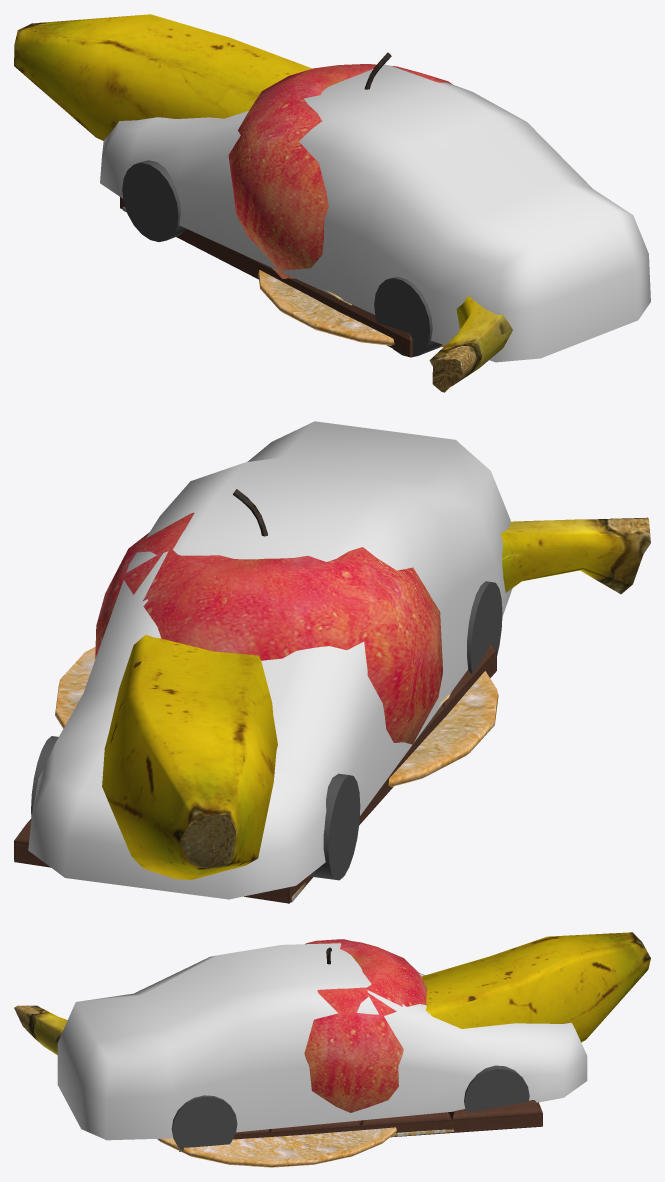
The model's file is TY_QHW.fbx.
The picture shows the model from 3 angles, top to bottom: view 1: azimuth 30°, elevation 25°; view 2: azimuth 150°, elevation 25°; view 3: azimuth 270°, elevation 25°; orthographic projection. The views are drawn at different scales.
Visible parts, largest first — view 1: xiaoche, xiangjiao, pingguo, wwxuebing, qiaokeli; view 2: xiaoche, xiangjiao, pingguo, wwxuebing, qiaokeli; view 3: xiaoche, xiangjiao, pingguo, wwxuebing, qiaokeli.
Part boxes in pixels (x1,y1,x2,y2): xiaoche: [100, 64, 650, 362]; xiangjiao: [14, 14, 512, 392]; pingguo: [228, 52, 452, 278]; wwxuebing: [258, 270, 444, 347]; qiaokeli: [120, 197, 412, 357]; xiaoche: [28, 421, 512, 899]; xiangjiao: [102, 517, 650, 879]; pingguo: [95, 489, 442, 756]; wwxuebing: [55, 647, 498, 786]; qiaokeli: [14, 644, 496, 903]; xiaoche: [57, 943, 587, 1150]; xiangjiao: [14, 932, 650, 1054]; pingguo: [304, 939, 427, 1122]; wwxuebing: [157, 1127, 396, 1167]; qiaokeli: [179, 1100, 542, 1151].
Bounding box in the file's own units: 10.03 × 6.68 × 20.08.
